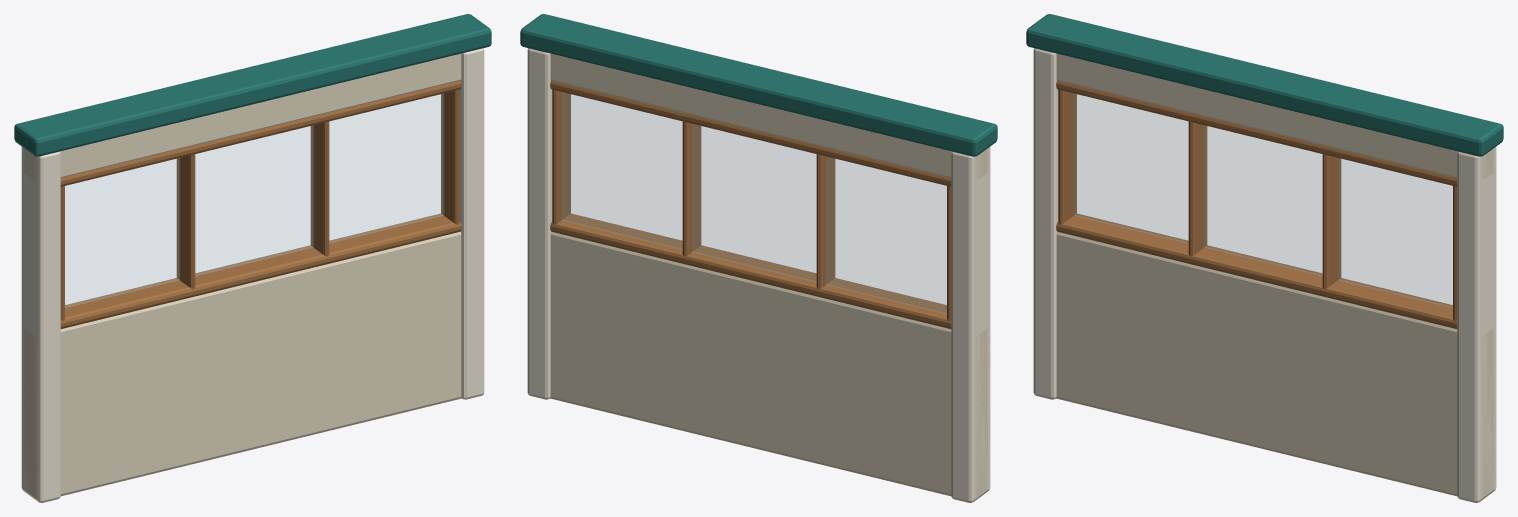
File: wall-window.glb
3 views of the same model, side by side, from view 1: azimuth 30°, elevation 25°; view 2: azimuth 150°, elevation 25°; view 3: azimuth 330°, elevation 25° (orthographic).
Visible parts, largest first — view 1: wall_window_batched; view 2: wall_window_batched; view 3: wall_window_batched.
Part boxes in pixels (x1,y1,x2,y2): wall_window_batched: [14, 14, 491, 502]; wall_window_batched: [520, 14, 997, 502]; wall_window_batched: [1026, 14, 1503, 502].
Bounding box in the file's own units: 4.1 × 3.15 × 0.36.
